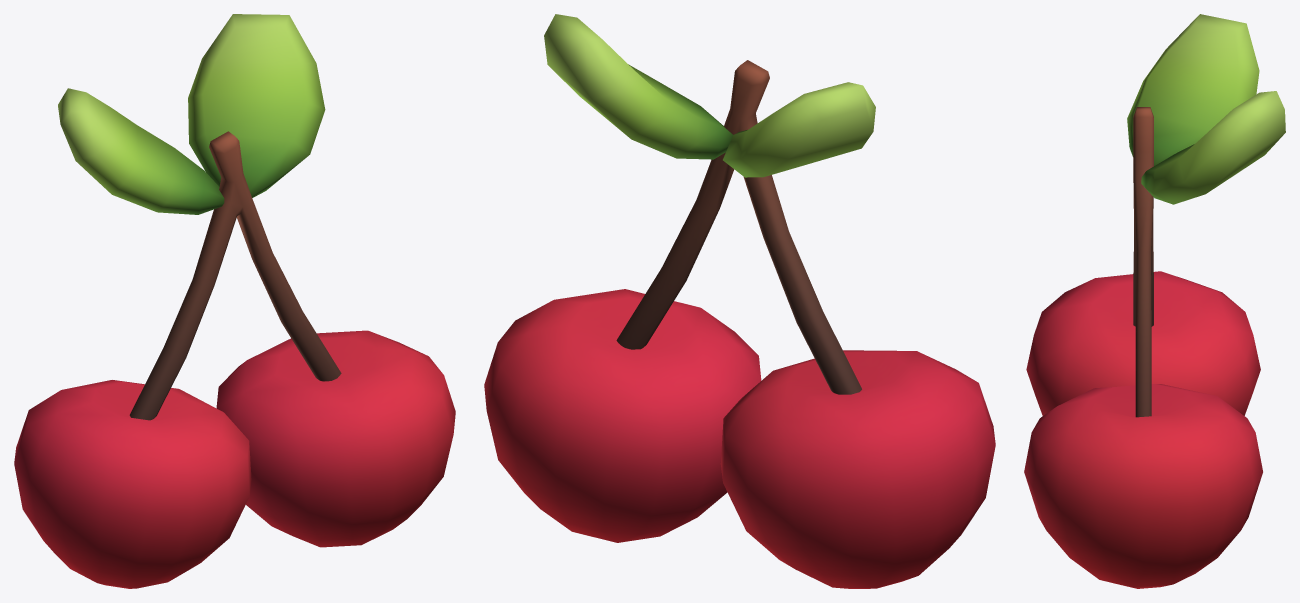
Rendered from berries_001.glb.
The picture shows the model from 3 angles, left to right: view 1: azimuth 30°, elevation 25°; view 2: azimuth 150°, elevation 25°; view 3: azimuth 270°, elevation 25°; orthographic projection. The views are drawn at different scales.
Visible parts, largest first — view 1: berries_001; view 2: berries_001; view 3: berries_001.
Boxes of the visible parts, left/top/right/bottom form: berries_001: left=14, top=14, right=455, bottom=588; berries_001: left=484, top=14, right=995, bottom=588; berries_001: left=1024, top=14, right=1285, bottom=588.
Size of the model in its own units: 0.9139 by 1.03 by 0.5175.
1 material, 1 textured.
